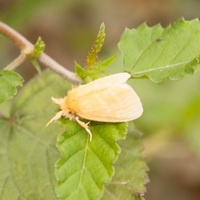insect: (46, 72, 142, 140)
